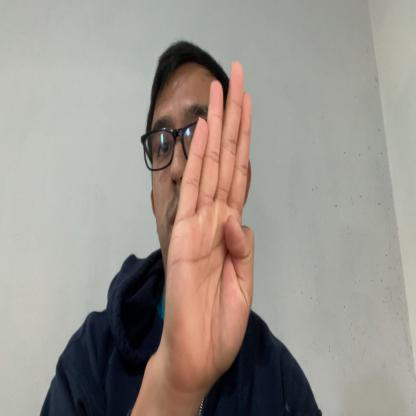B: (164, 60, 254, 376)
